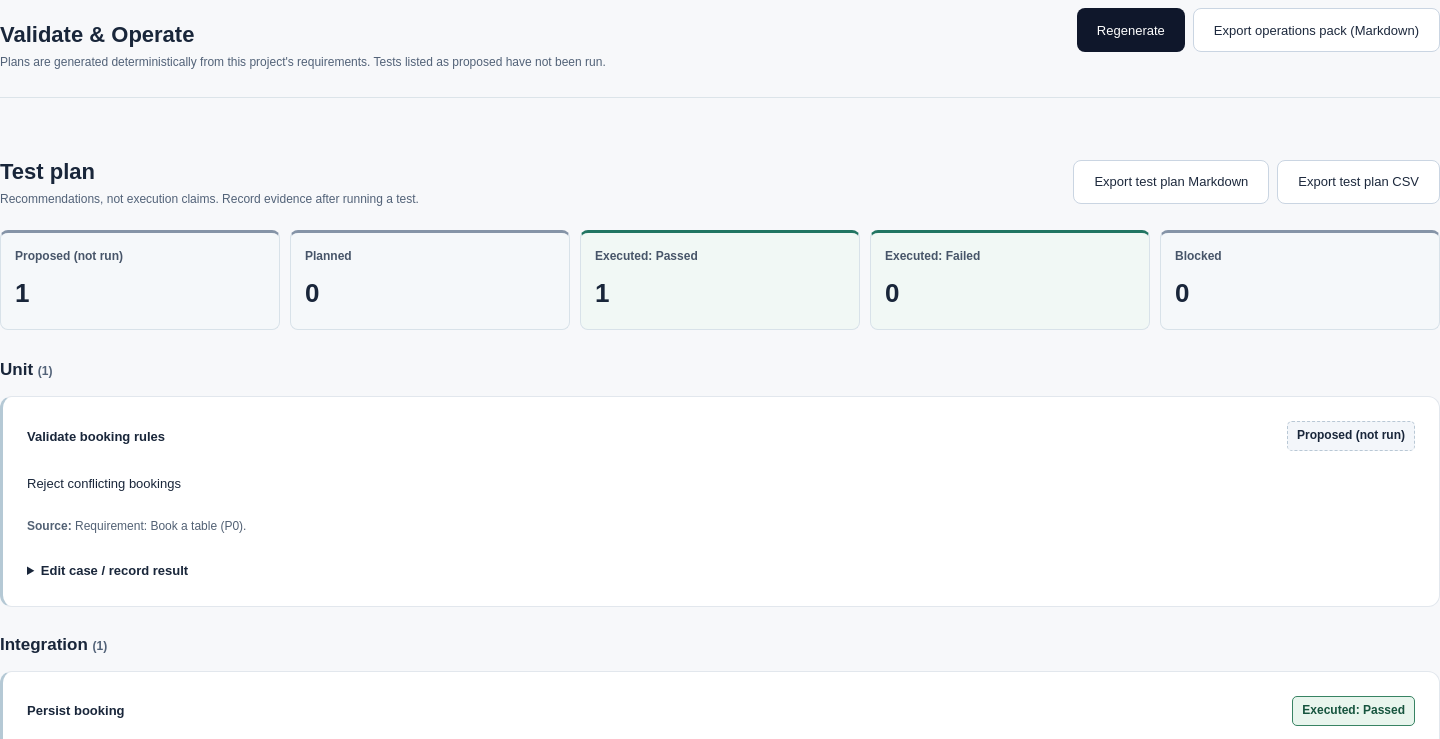
Test case: requires notes when recording a result and displays server 422 messages
Click the heading "Edit case / record result" at (114, 571), box x1=41 y1=564 x2=188 y2=578
(page scrolled)
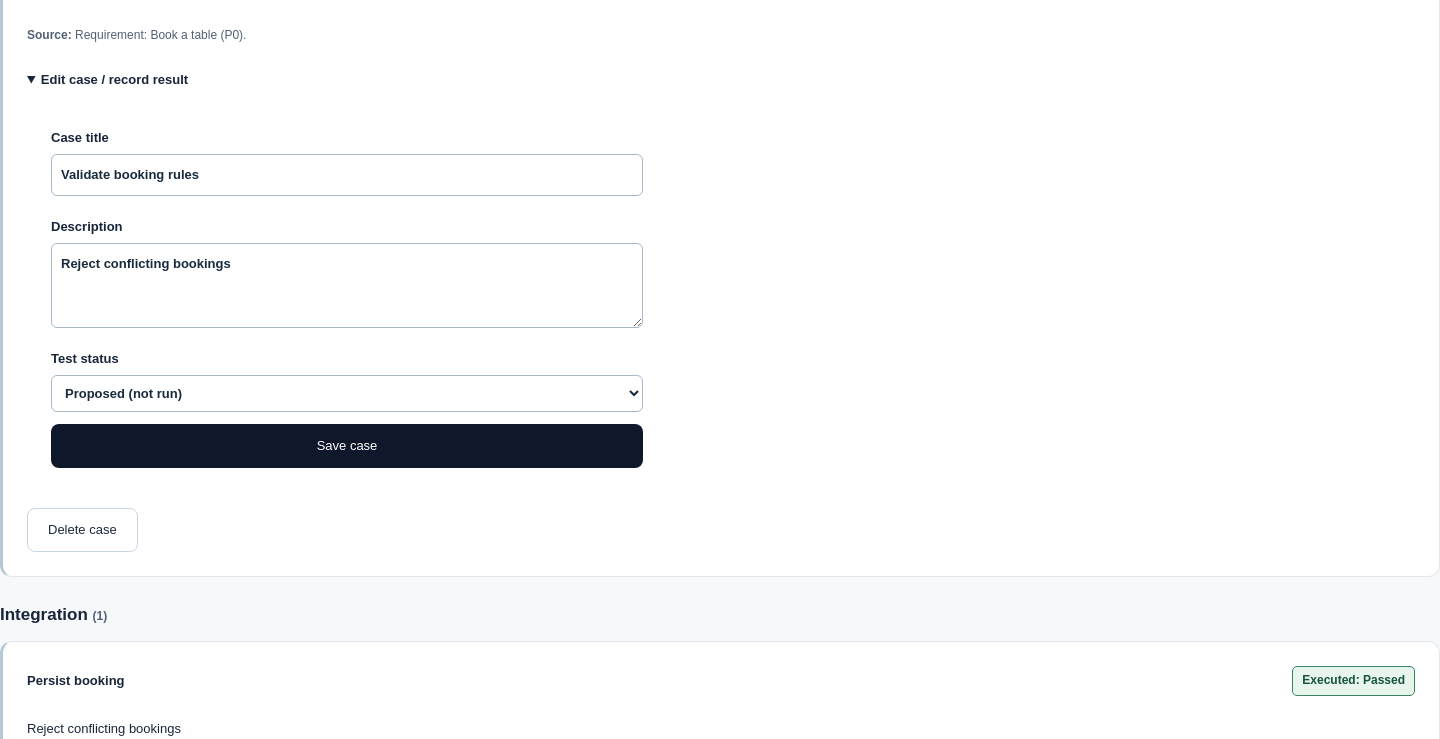
Select "Executed: Passed" in the dropdown labelled "Test status" at (347, 394), box x1=51 y1=375 x2=643 y2=412
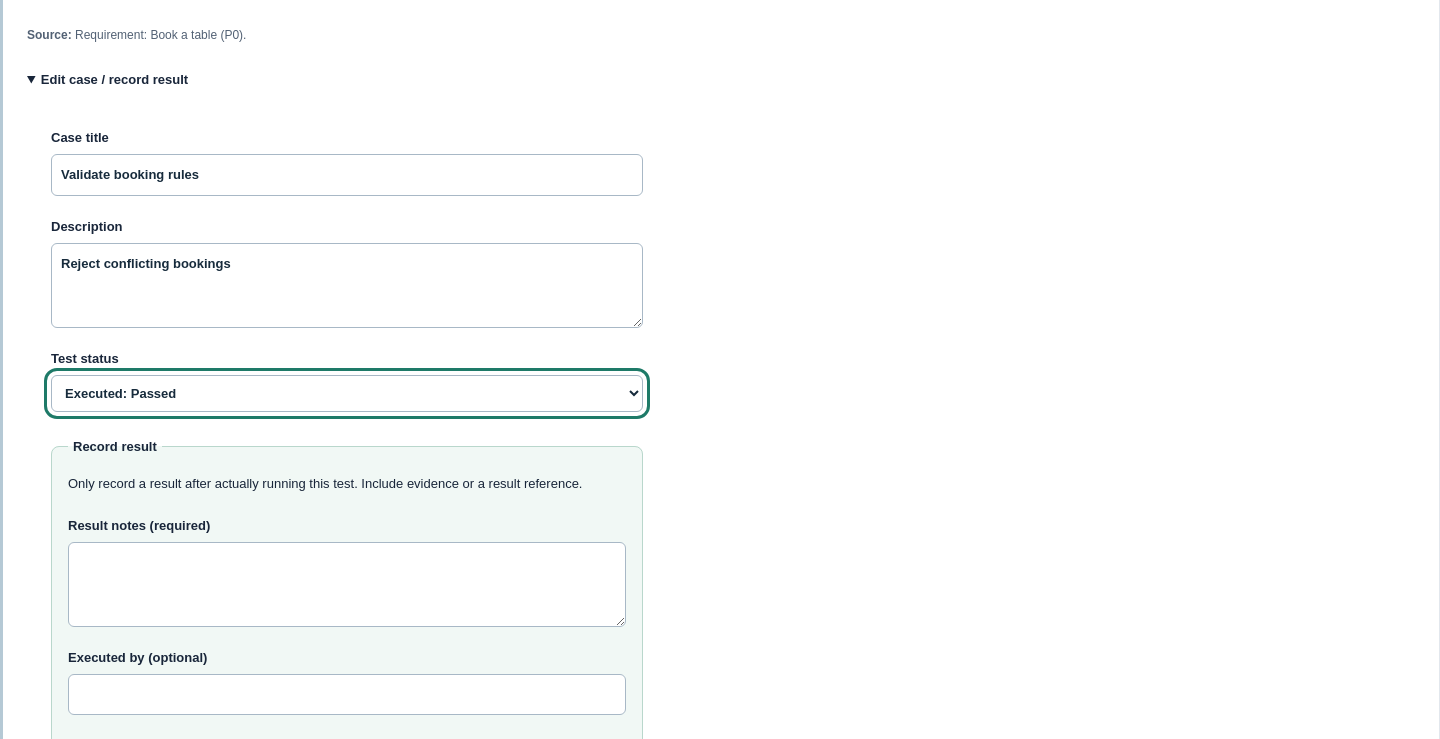
Type "Executed locally: all assertions pass" into the text box labelled "Result notes (required)" at (347, 584), box x1=68 y1=542 x2=626 y2=627
(page scrolled)
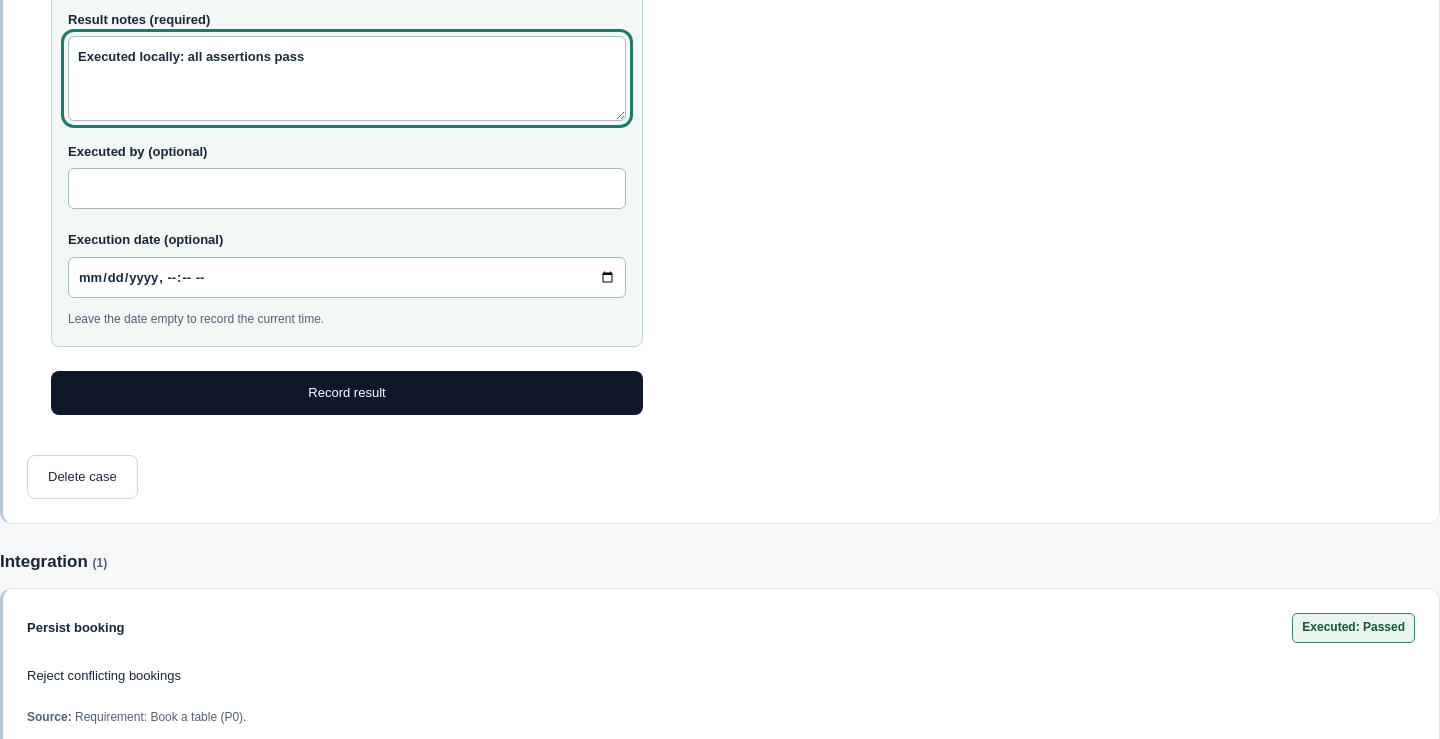
Click the button "Record result" at (347, 393), box x1=51 y1=371 x2=643 y2=415
(page scrolled)
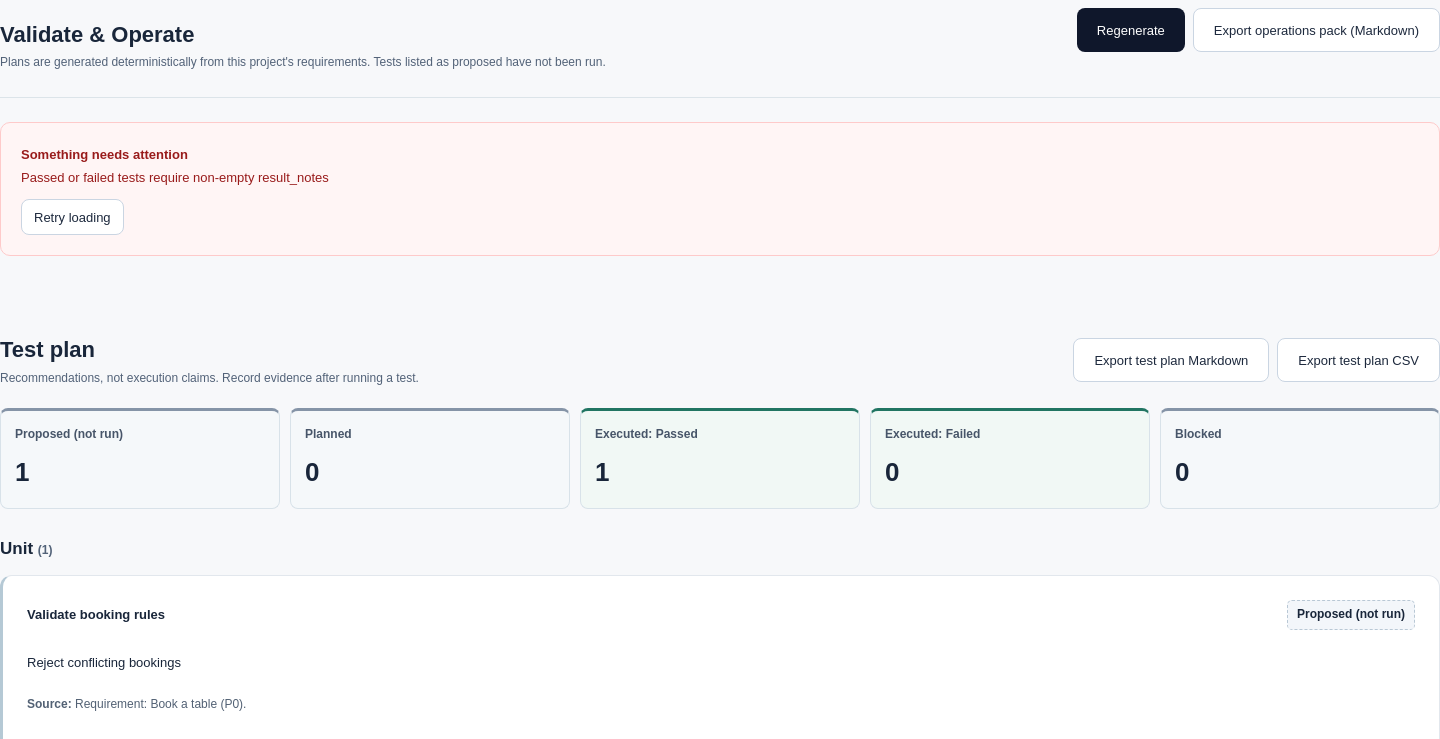
Expected: the message shows "Passed or failed tests require non-empty result_notes", x1=21 y1=170 x2=329 y2=185
